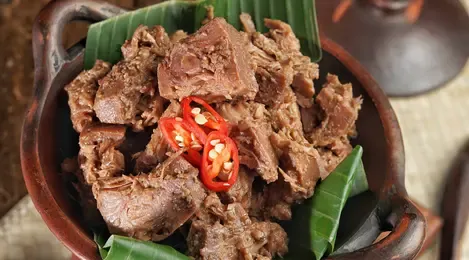gudeg: (65, 18, 363, 260)
